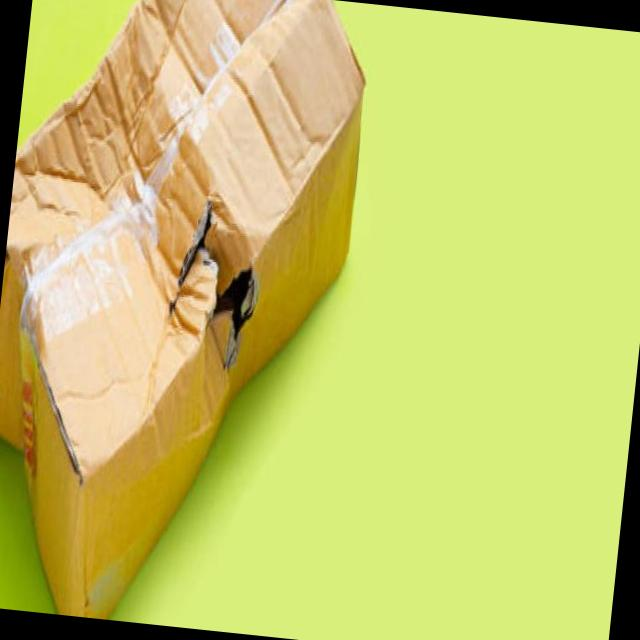box: (0, 0, 365, 640)
crushed: (0, 0, 159, 274), (166, 0, 337, 175)
opened: (161, 201, 265, 372)
